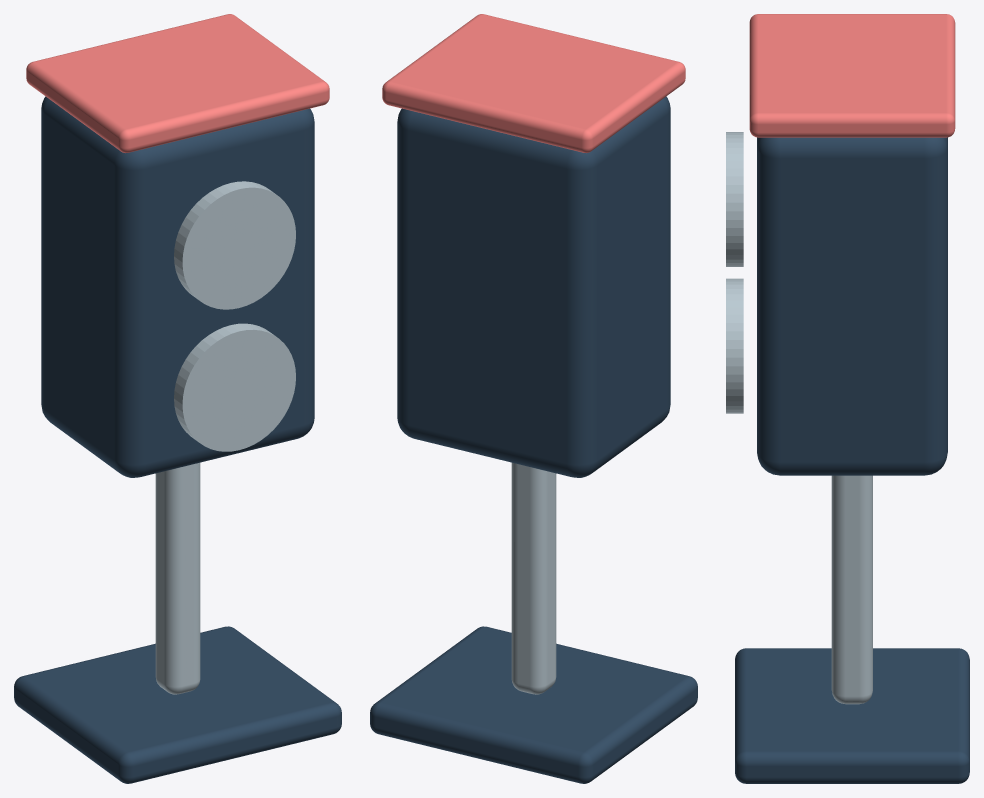
Rendered from party-obstacle-course-party-obstacle-course-speaker-to-21467db3__28946.glb.
3 renders of one model, left to right at view 1: azimuth 30°, elevation 25°; view 2: azimuth 150°, elevation 25°; view 3: azimuth 270°, elevation 25°, orthographic. The views are drawn at different scales.
Visible parts, largest first — view 1: party-obstacle-course-speaker-tower; view 2: party-obstacle-course-speaker-tower; view 3: party-obstacle-course-speaker-tower.
Boxes of the visible parts, x1=… form: party-obstacle-course-speaker-tower: x1=14, y1=14, x2=341, y2=783; party-obstacle-course-speaker-tower: x1=370, y1=14, x2=697, y2=783; party-obstacle-course-speaker-tower: x1=726, y1=14, x2=969, y2=783.
Size of the model in its own units: 0.8999 by 2.51 by 0.83.
